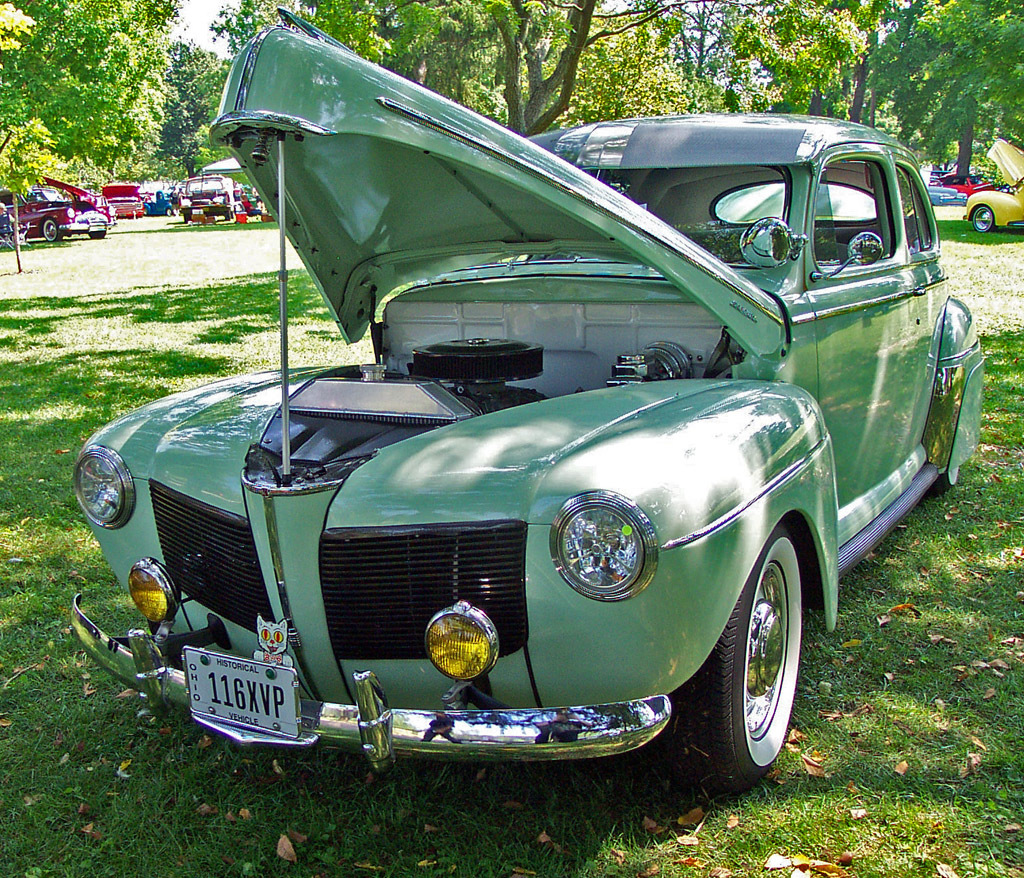Car: (64, 10, 990, 772), (961, 130, 1022, 225), (16, 174, 104, 225), (177, 174, 229, 219)
